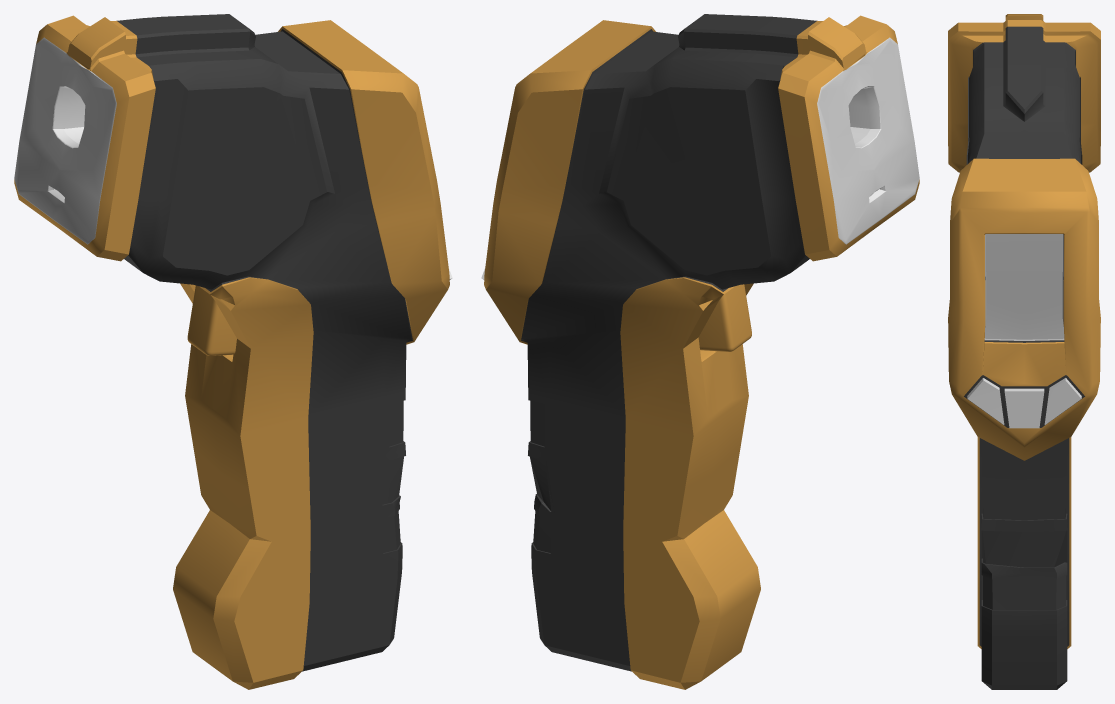
The model's file is Thermometer.fbx.
3 views of the same model, side by side, from view 1: azimuth 30°, elevation 25°; view 2: azimuth 150°, elevation 25°; view 3: azimuth 270°, elevation 25° (orthographic). The views are drawn at different scales.
Visible parts, largest first — view 1: Infrared Thermometer; view 2: Infrared Thermometer; view 3: Infrared Thermometer.
Boxes of the visible parts, bbox=[...] form: Infrared Thermometer: bbox=[14, 14, 452, 689]; Infrared Thermometer: bbox=[481, 14, 919, 689]; Infrared Thermometer: bbox=[948, 14, 1100, 689].
Size of the model in its own units: 34.79 by 61.63 by 14.85.
